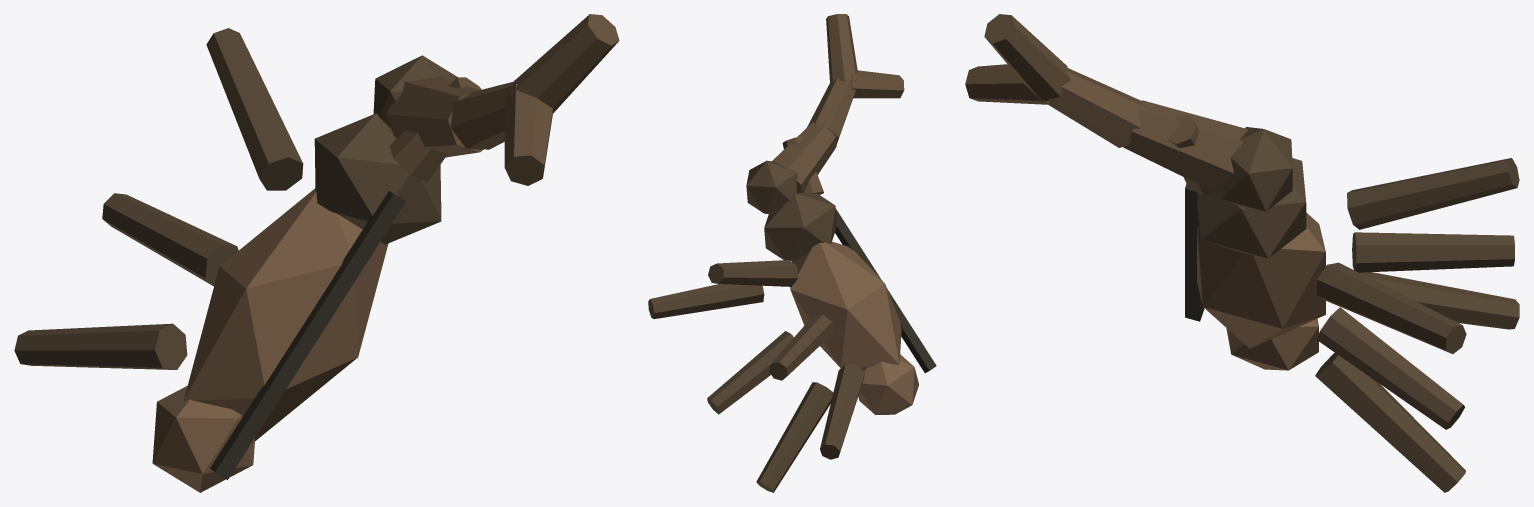
3 renders of one model, left to right at view 1: azimuth 30°, elevation 25°; view 2: azimuth 150°, elevation 25°; view 3: azimuth 270°, elevation 25°, orthographic. The views are drawn at different scales.
Parts seen in each view (by area): view 1: part0, part3, part2, part11, part15, part1, part13, part7, part5, part8, part6, part4 (+1 smaller); view 2: part0, part3, part14, part1, part10, part15, part5, part4, part12, part11, part13, part7 (+4 smaller); view 3: part0, part11, part14, part13, part5, part12, part10, part3, part4, part6, part15, part7 (+4 smaller).
Part boxes in pixels (<box>): part0: <box>183,188,388,441</box>; part3: <box>314,113,441,244</box>; part2: <box>210,191,405,479</box>; part11: <box>206,28,303,190</box>; part15: <box>14,323,187,369</box>; part1: <box>152,386,255,492</box>; part13: <box>102,193,238,286</box>; part7: <box>510,14,619,113</box>; part5: <box>386,76,483,157</box>; part8: <box>504,84,552,185</box>; part6: <box>450,82,513,149</box>; part4: <box>373,55,457,128</box>; part0: <box>790,241,901,369</box>; part3: <box>764,192,836,261</box>; part14: <box>756,382,833,492</box>; part1: <box>858,354,918,414</box>; part10: <box>648,284,764,318</box>; part15: <box>820,364,864,459</box>; part5: <box>772,122,836,193</box>; part4: <box>746,160,797,214</box>; part12: <box>707,331,793,414</box>; part11: <box>708,260,797,286</box>; part13: <box>769,314,833,380</box>; part7: <box>826,14,857,82</box>; part0: <box>1197,212,1325,348</box>; part11: <box>1347,158,1519,229</box>; part14: <box>1315,353,1465,492</box>; part13: <box>1352,232,1514,272</box>; part5: <box>1123,100,1248,194</box>; part12: <box>1317,307,1464,429</box>; part10: <box>1316,262,1466,353</box>; part3: <box>1197,158,1306,258</box>; part4: <box>1221,127,1292,211</box>; part6: <box>1047,68,1146,147</box>; part15: <box>1359,272,1519,329</box>; part7: <box>984,14,1070,102</box>.
Size of the model in its own units: 9.67 by 15.33 by 14.48.
